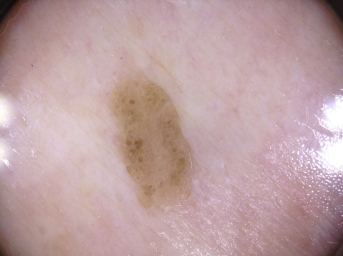seborrheic keratosis: (95, 55, 215, 221)
